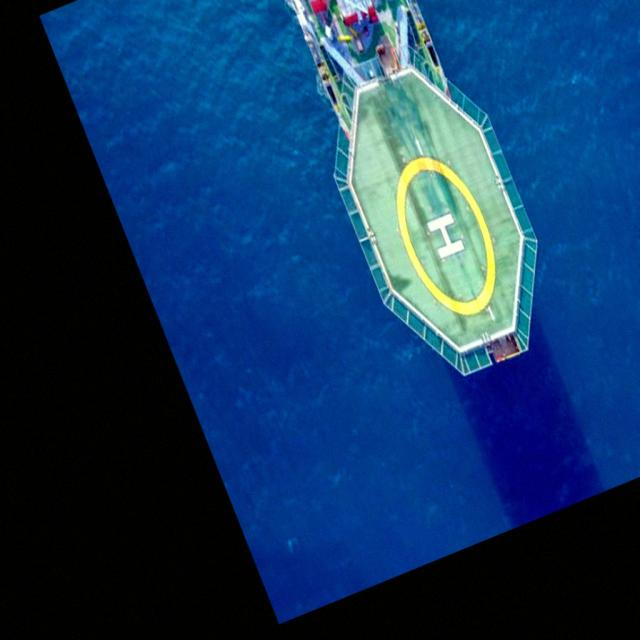helipad: (393, 148, 499, 316)
